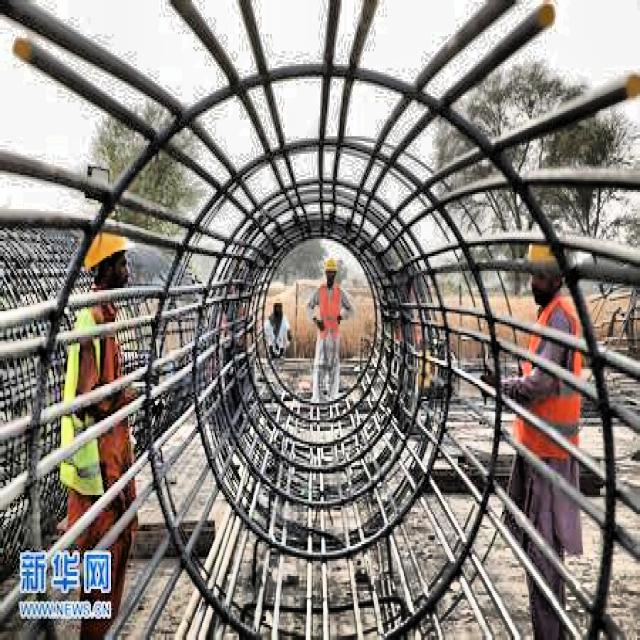helmet: (86, 218, 136, 294), (524, 230, 570, 305), (321, 254, 340, 288)
